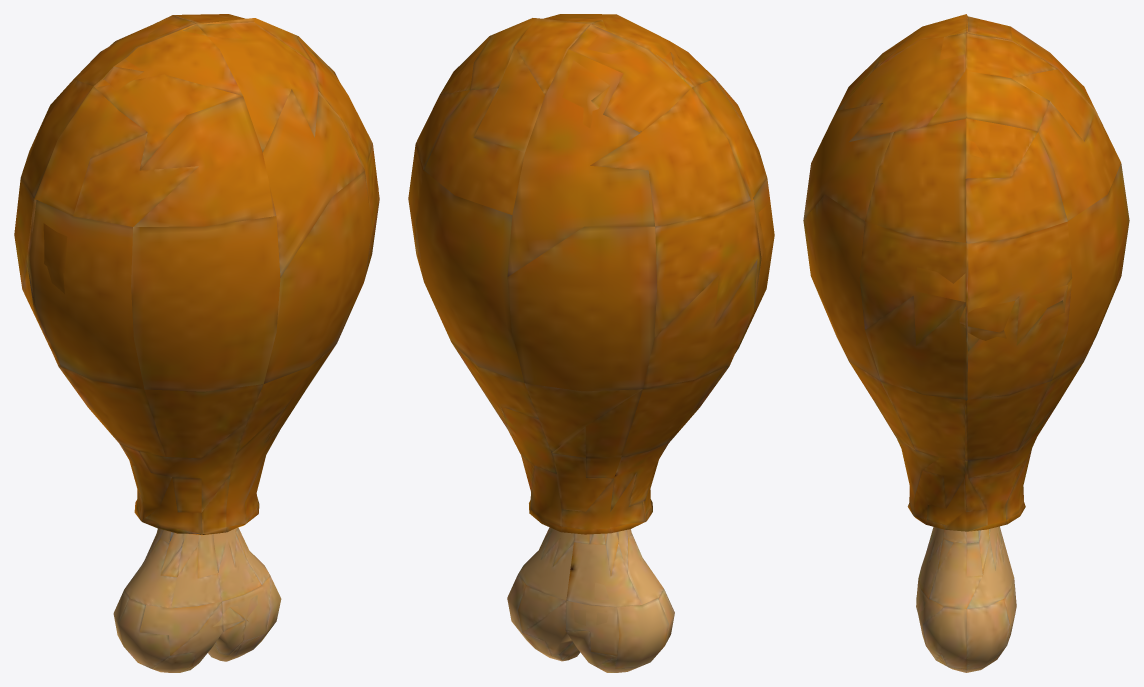
The model's file is chicken-leg.glb.
The picture shows the model from 3 angles, left to right: view 1: azimuth 30°, elevation 25°; view 2: azimuth 150°, elevation 25°; view 3: azimuth 270°, elevation 25°; orthographic projection. The views are drawn at different scales.
Parts seen in each view (by area): view 1: geometry_0; view 2: geometry_0; view 3: geometry_0.
Part boxes in pixels (x1,y1,x2,y2): geometry_0: (14,14,379,672); geometry_0: (408,14,774,672); geometry_0: (803,14,1129,672).
Size of the model in its own units: 0.5569 by 1 by 0.4738.
1 material, 1 textured.
